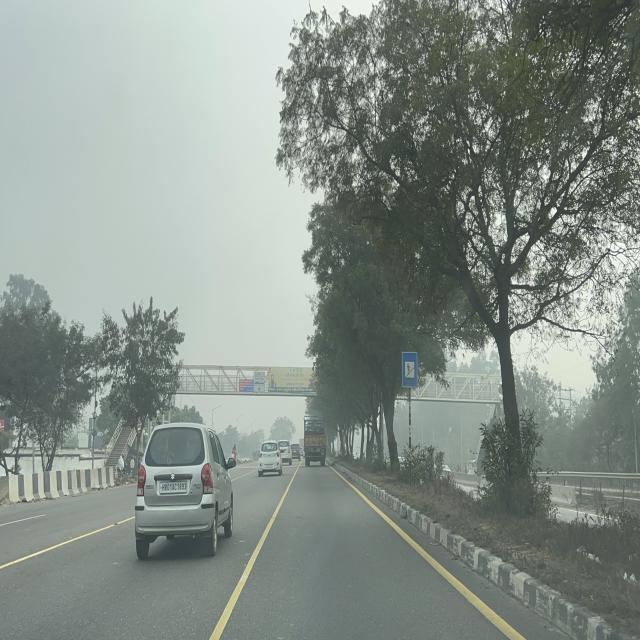INFORMATION: (402, 352, 418, 388)
